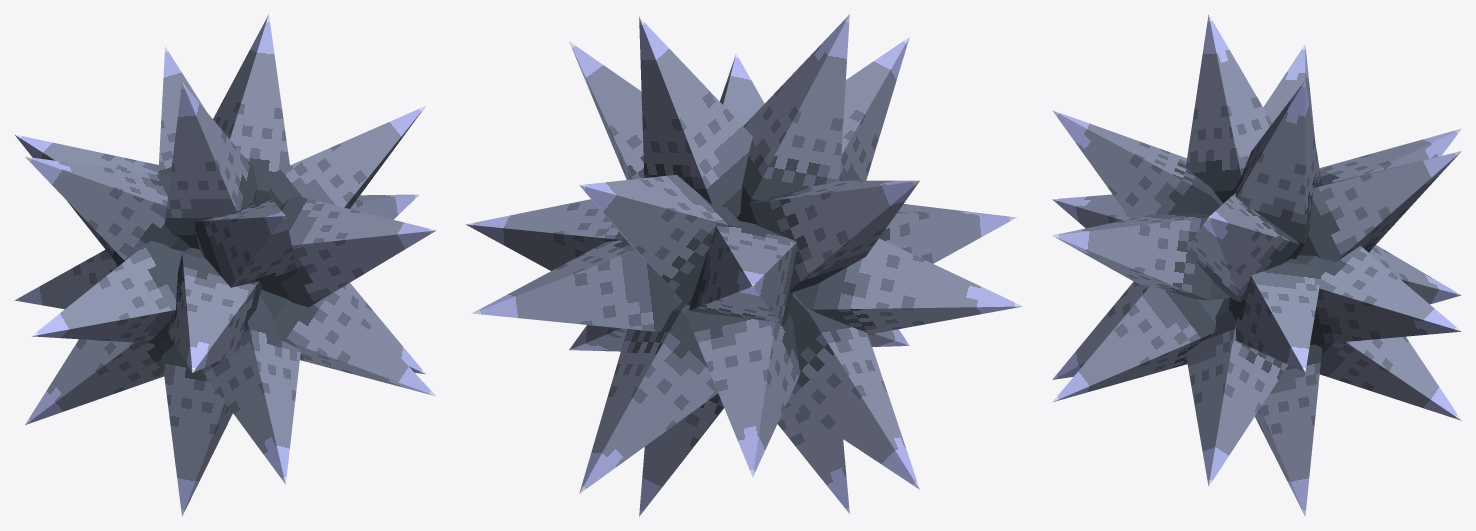
Rendered from spike_ball.glb.
The picture shows the model from 3 angles, left to right: view 1: azimuth 30°, elevation 25°; view 2: azimuth 150°, elevation 25°; view 3: azimuth 270°, elevation 25°; orthographic projection. The views are drawn at different scales.
Visible parts, largest first — view 1: Cube.030, Cube.027, Cube.023, Cube.024, Cube.019, Cube.026, Cube.028, Cube.020, Cube.029, Cube.025, Cube.008, Cube.022 (+5 smaller); view 2: Cube.020, Cube.024, Cube.001, Cube.008, Cube.023, Cube.002, Cube.019, Cube.003, Cube.005, Cube.004, Cube.006, Cube.029 (+6 smaller); view 3: Cube.002, Cube.021, Cube.026, Cube.024, Cube.005, Cube.030, Cube.029, Cube.020, Cube.006, Cube.025, Cube.001, Cube.007 (+5 smaller).
Part boxes in pixels (x1=…): Cube.030: x1=261, y1=196, x2=436, y2=307; Cube.027: x1=201, y1=295, x2=300, y2=484; Cube.023: x1=31, y1=241, x2=183, y2=343; Cube.024: x1=164, y1=82, x2=256, y2=249; Cube.019: x1=25, y1=156, x2=189, y2=260; Cube.026: x1=260, y1=289, x2=436, y2=396; Cube.028: x1=165, y1=247, x2=261, y2=372; Cube.020: x1=213, y1=14, x2=289, y2=201; Cube.029: x1=195, y1=197, x2=297, y2=288; Cube.025: x1=267, y1=106, x2=425, y2=208; Cube.008: x1=25, y1=337, x2=174, y2=424; Cube.022: x1=161, y1=345, x2=232, y2=516; Cube.020: x1=639, y1=17, x2=752, y2=217; Cube.024: x1=740, y1=14, x2=849, y2=212; Cube.001: x1=579, y1=301, x2=717, y2=493; Cube.008: x1=787, y1=293, x2=919, y2=489; Cube.023: x1=793, y1=238, x2=1022, y2=334; Cube.002: x1=472, y1=239, x2=682, y2=331; Cube.019: x1=736, y1=180, x2=919, y2=292; Cube.003: x1=686, y1=306, x2=800, y2=477; Cube.005: x1=579, y1=174, x2=740, y2=305; Cube.004: x1=689, y1=221, x2=797, y2=326; Cube.006: x1=466, y1=199, x2=624, y2=270; Cube.029: x1=839, y1=37, x2=909, y2=180; Cube.002: x1=1295, y1=246, x2=1461, y2=344; Cube.021: x1=1185, y1=298, x2=1288, y2=486; Cube.026: x1=1052, y1=285, x2=1223, y2=402; Cube.024: x1=1185, y1=14, x2=1272, y2=203; Cube.005: x1=1298, y1=151, x2=1461, y2=261; Cube.030: x1=1052, y1=213, x2=1229, y2=300; Cube.029: x1=1052, y1=110, x2=1223, y2=218; Cube.020: x1=1230, y1=80, x2=1322, y2=258; Cube.006: x1=1228, y1=258, x2=1321, y2=372; Cube.025: x1=1186, y1=192, x2=1300, y2=301; Cube.001: x1=1316, y1=336, x2=1461, y2=420; Cube.007: x1=1255, y1=344, x2=1322, y2=516.
Bounding box in the file's own units: 7.23 × 6.88 × 5.85.
1 material, 1 textured.
